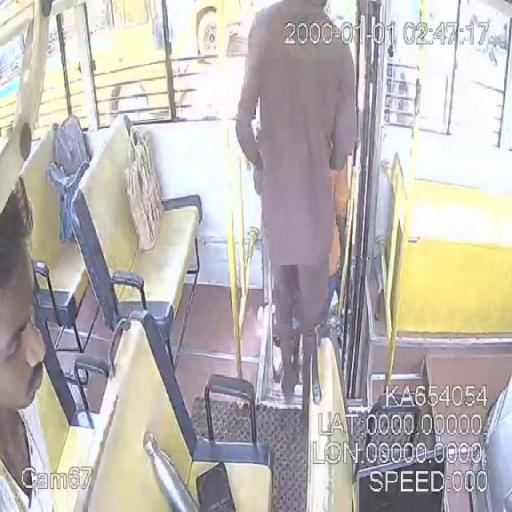persona: (234, 0, 359, 404), (0, 175, 56, 511)
